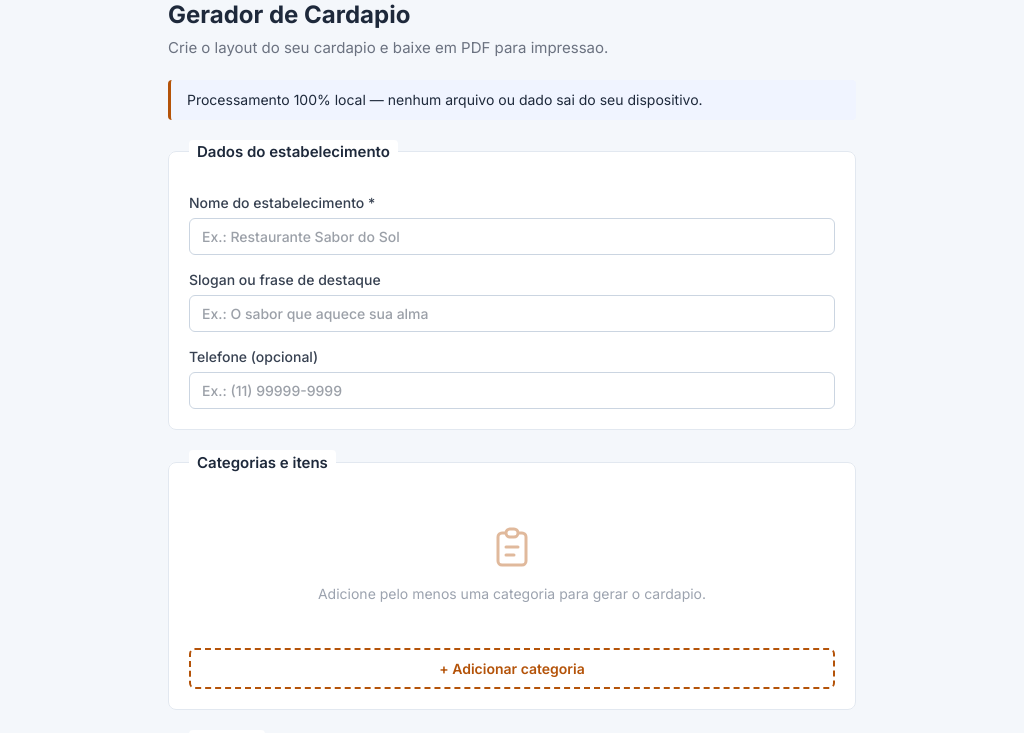
Test: MenuBuilderTool — habilitacao do botao › habilita apos estabelecimento + categoria + item nomeado
Type "Restaurante Teste" into the field labelled "Nome do estabelecimento *" at (512, 236), box [189,218,835,255]
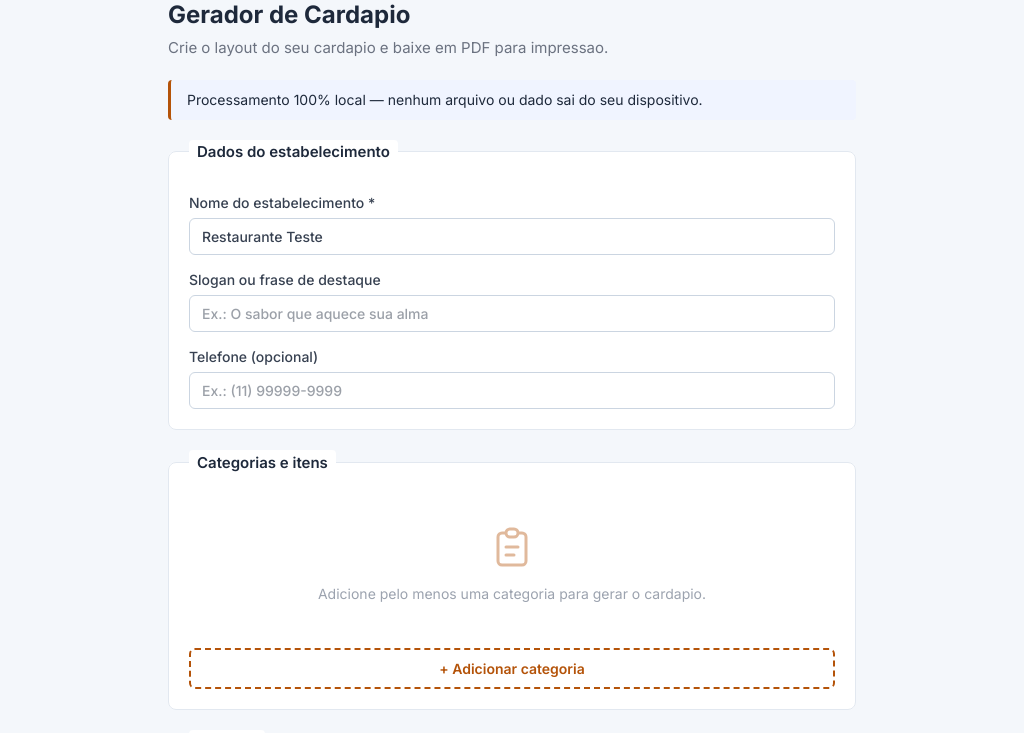
Click the button "+ Adicionar categoria" at (512, 668), box [189,648,835,689]
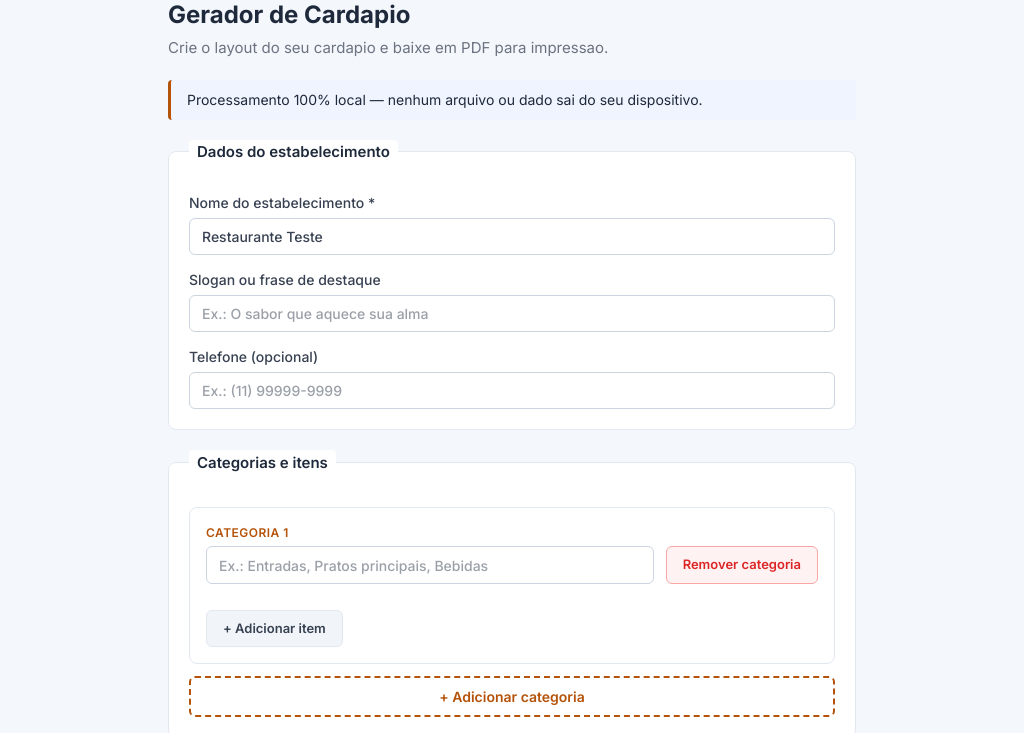
Type "Pratos" into the field named "Nome da categoria 1" at (430, 565), box [206,546,654,584]
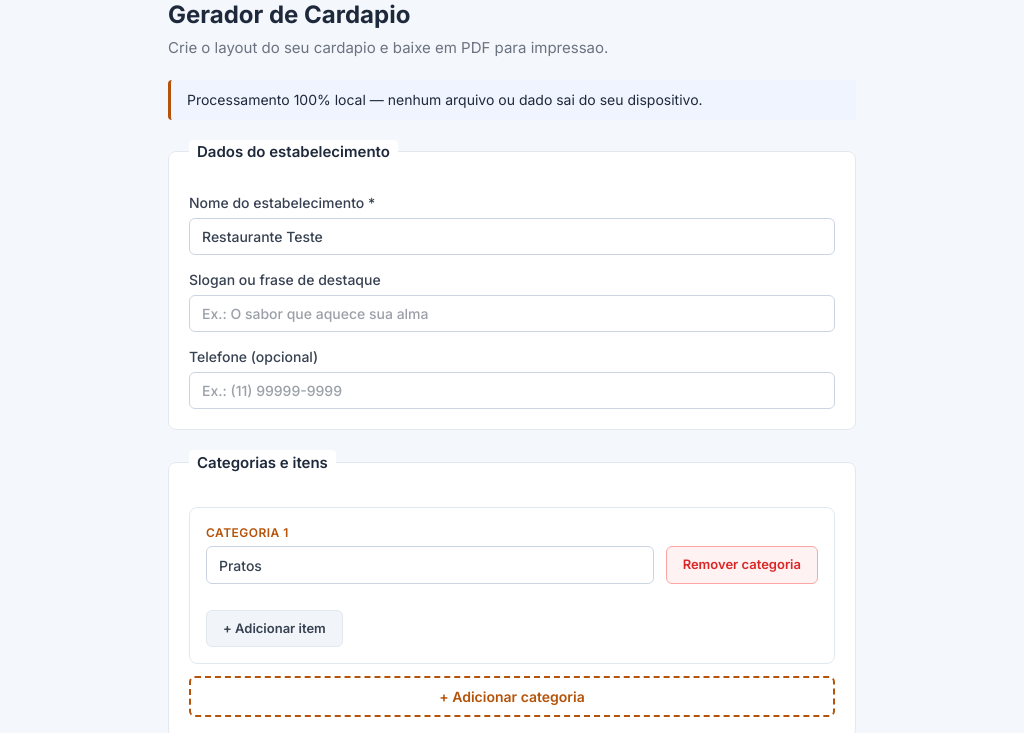
Click the button "+ Adicionar item" at (274, 629), box [206,610,343,647]
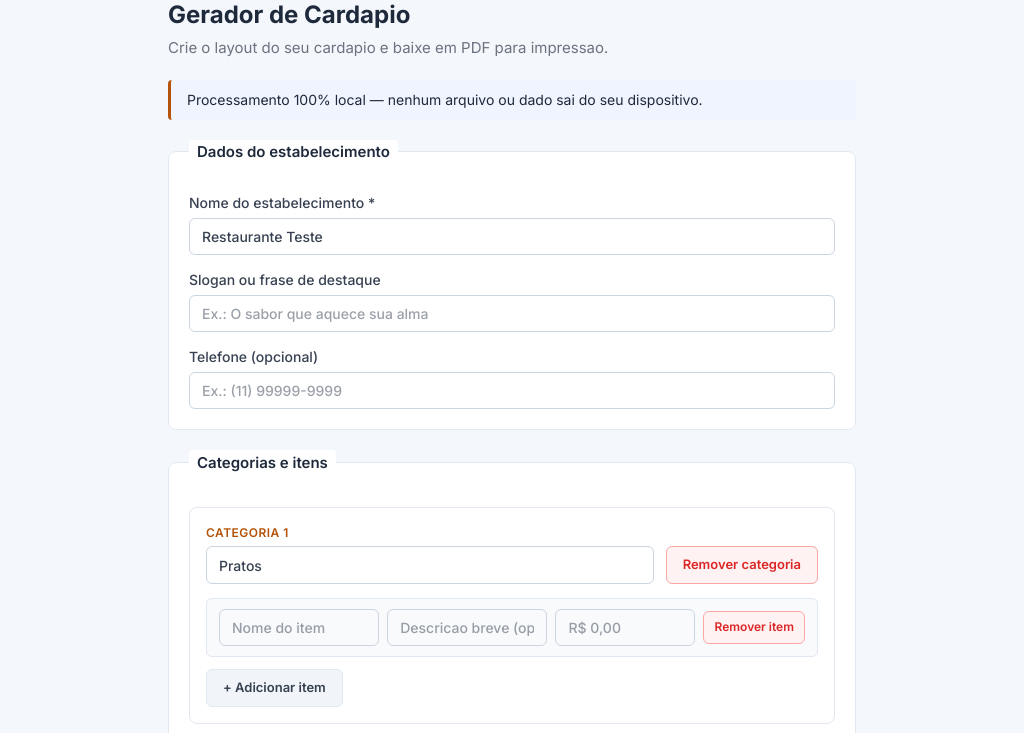
Type "Frango" into the field named "Nome do item 1" at (299, 628), box [219,609,379,646]
(page scrolled)
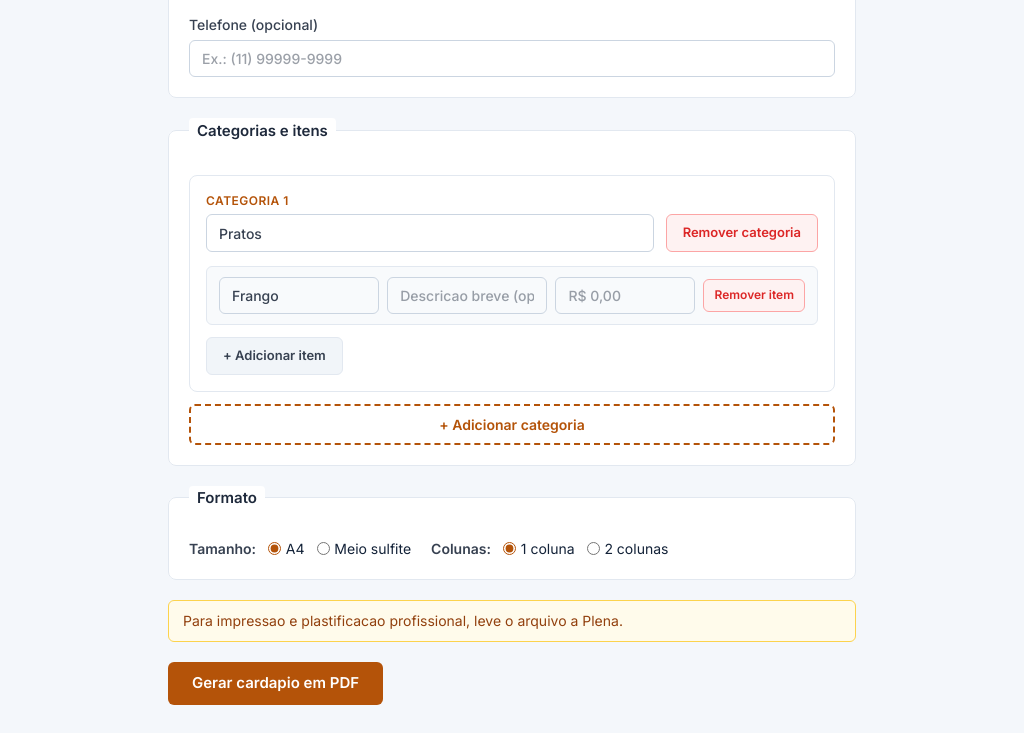
Expected: the button "Gerar cardapio em PDF" is enabled, [168,662,383,705]
